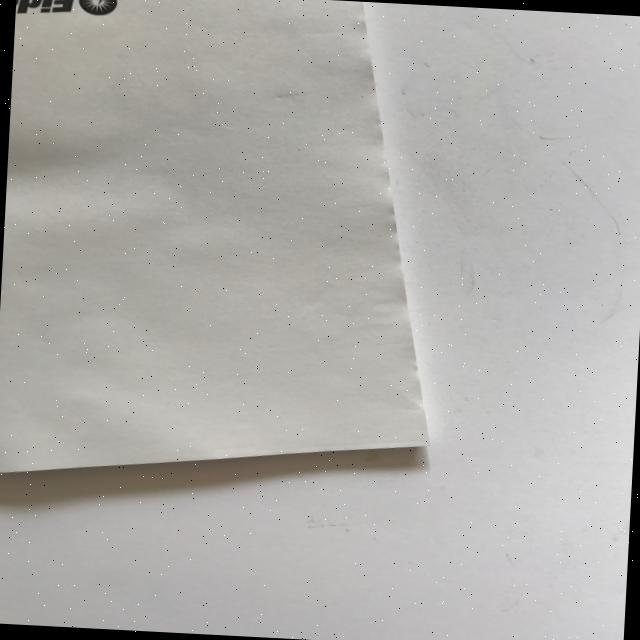paper: (0, 0, 454, 497)
